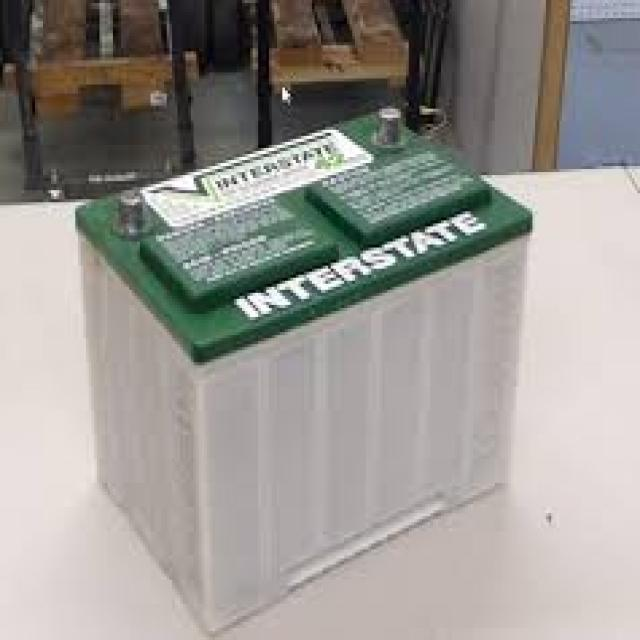non-organic waste: (67, 102, 538, 640)
